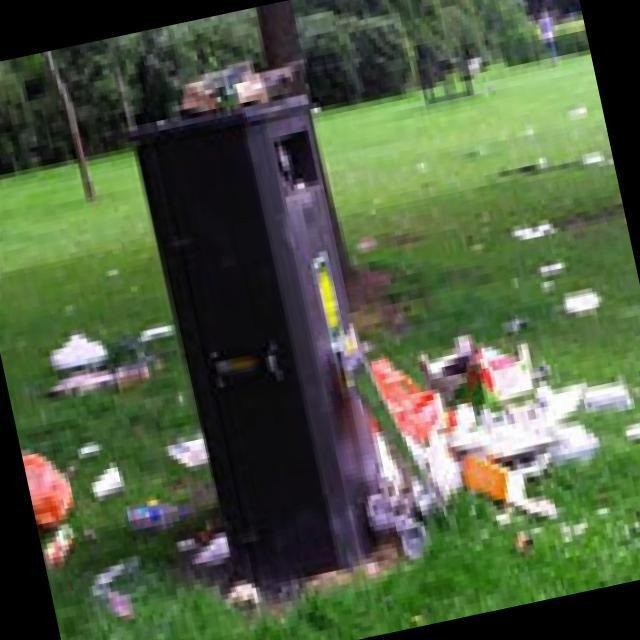garbage: (354, 314, 580, 558), (30, 309, 164, 418), (169, 38, 284, 110), (18, 428, 68, 538), (626, 440, 640, 560)
